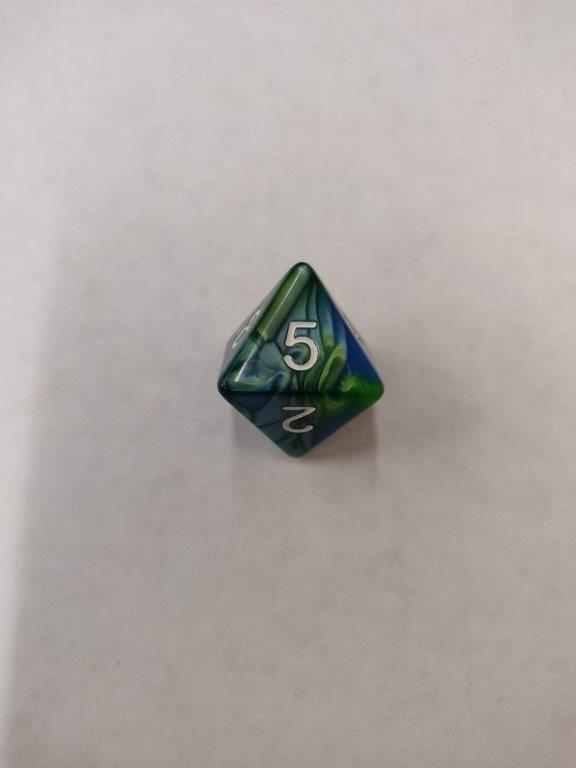d8-5: (213, 258, 386, 463)
